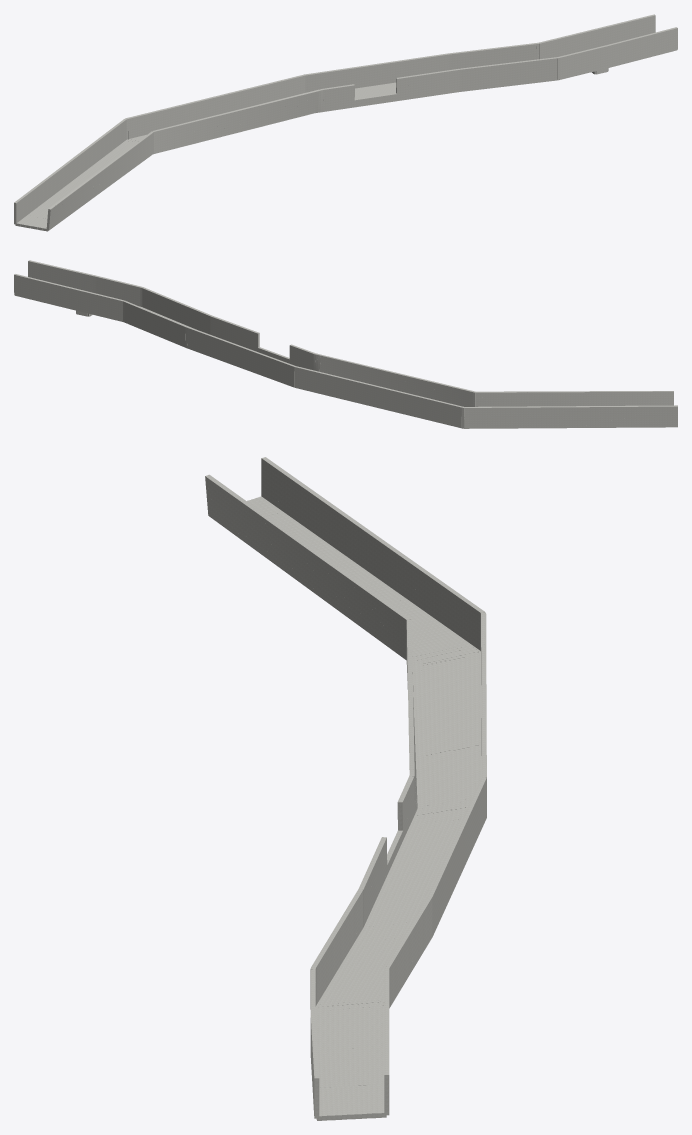
File: WaterLine.fbx
3 views of the same model, one above another, from view 1: azimuth 30°, elevation 25°; view 2: azimuth 150°, elevation 25°; view 3: azimuth 270°, elevation 25° (orthographic). The views are drawn at different scales.
Parts seen in each view (by area): view 1: Cube; view 2: Cube; view 3: Cube.
Boxes of the visible parts, left/top/right/bottom form: Cube: left=14, top=14, right=677, bottom=231; Cube: left=14, top=260, right=677, bottom=428; Cube: left=205, top=457, right=486, bottom=1120.
Size of the model in its own units: 28503 by 1274 by 5466.
